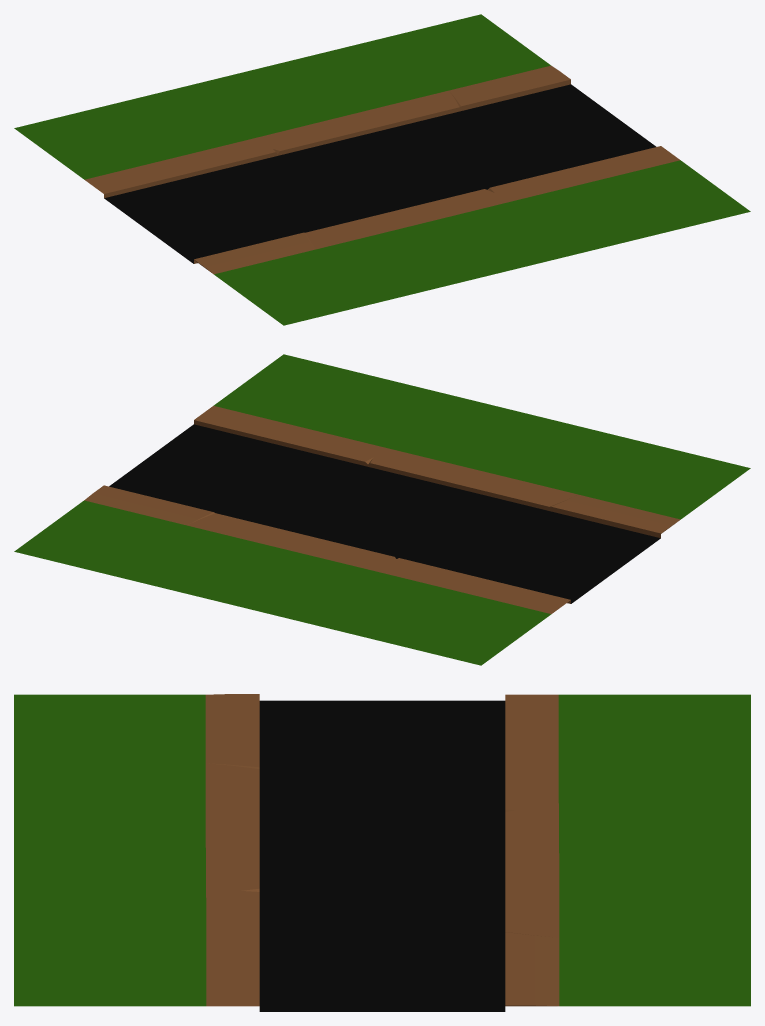
File: Strada_Dritta.FBX
The picture shows the model from 3 angles, top to bottom: view 1: azimuth 30°, elevation 25°; view 2: azimuth 150°, elevation 25°; view 3: azimuth 270°, elevation 25°; orthographic projection. The views are drawn at different scales.
Parts seen in each view (by area): view 1: Object016; view 2: Object016; view 3: Object016.
Boxes of the visible parts, bbox=[...] form: Object016: bbox=[14, 14, 750, 325]; Object016: bbox=[14, 354, 750, 665]; Object016: bbox=[14, 694, 750, 1011].
Size of the model in its own units: 2100 by 20.52 by 2100.
